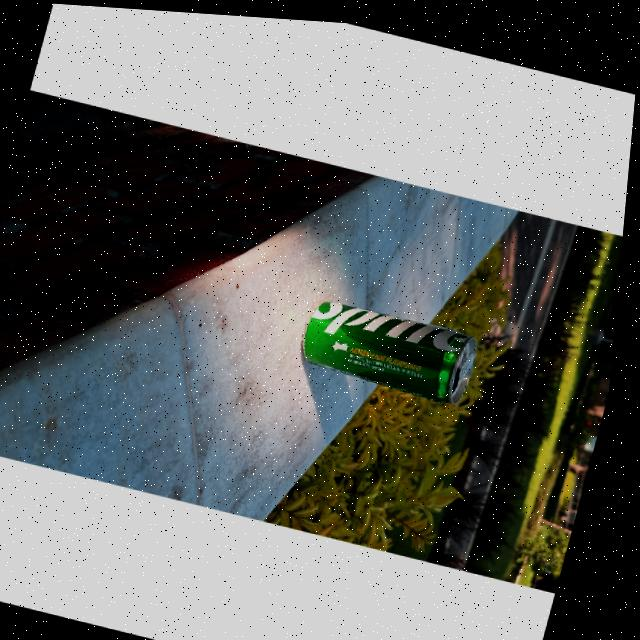Sprite: (304, 287, 482, 396)
